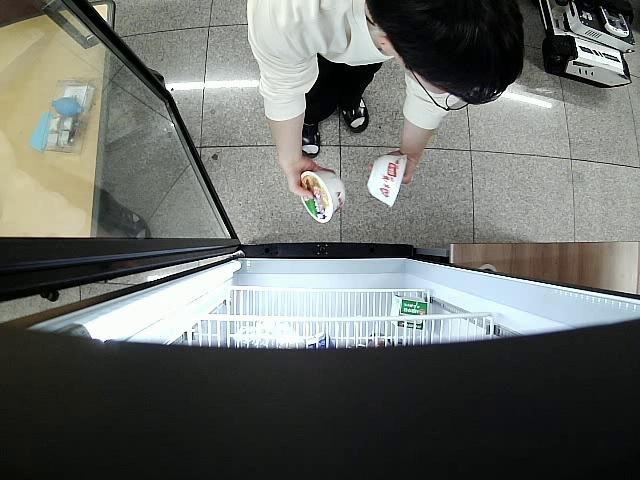09_yukGaeJang: (299, 169, 346, 224), (367, 154, 408, 207)
